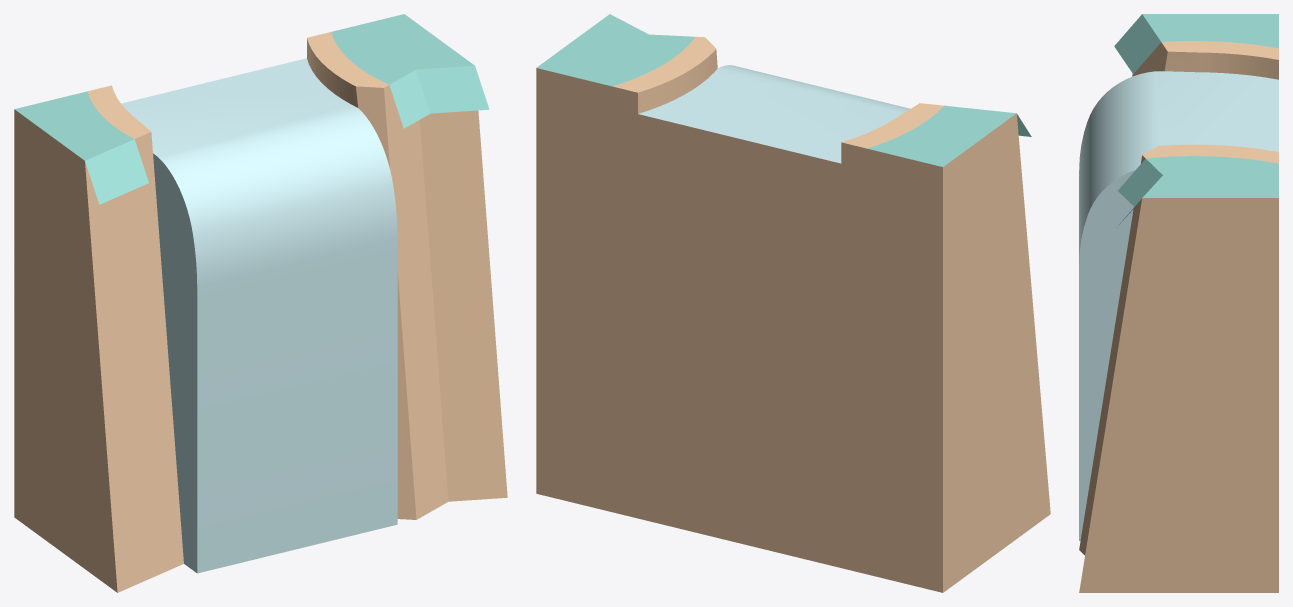
Rendered from cliffBrown_waterfallTop.glb.
The picture shows the model from 3 angles, left to right: view 1: azimuth 30°, elevation 25°; view 2: azimuth 150°, elevation 25°; view 3: azimuth 270°, elevation 25°; orthographic projection. The views are drawn at different scales.
Parts seen in each view (by area): view 1: cliffBrown_waterfallTop; view 2: cliffBrown_waterfallTop; view 3: cliffBrown_waterfallTop.
Part boxes in pixels (<box>): cliffBrown_waterfallTop: <box>14,14,507,592</box>; cliffBrown_waterfallTop: <box>536,14,1050,592</box>; cliffBrown_waterfallTop: <box>1079,14,1278,592</box>.
Size of the model in its own units: 1 by 1 by 0.4584.
